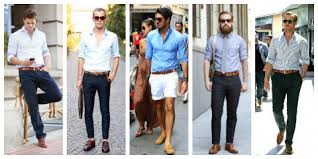F_belt: (210, 68, 243, 80), (146, 67, 182, 77), (80, 69, 114, 79), (270, 66, 302, 75), (17, 66, 49, 74)
F_dress pants: (17, 72, 66, 136), (269, 72, 306, 142), (211, 75, 243, 146), (85, 76, 115, 141)
F_shirt: (4, 25, 58, 70), (203, 30, 251, 74), (77, 29, 124, 72), (264, 32, 312, 71)
